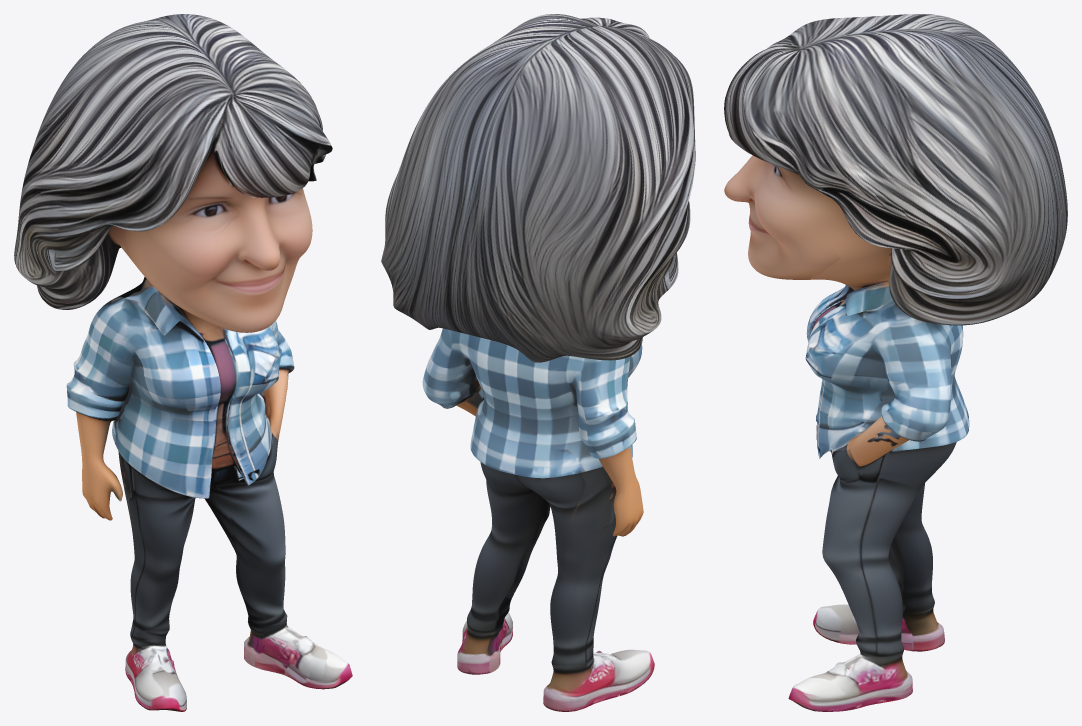
The model's file is vickie.glb.
3 renders of one model, left to right at view 1: azimuth 30°, elevation 25°; view 2: azimuth 150°, elevation 25°; view 3: azimuth 270°, elevation 25°, orthographic. The views are drawn at different scales.
Parts seen in each view (by area): view 1: model.003; view 2: model.003; view 3: model.003.
Boxes of the visible parts, x1,y1,x2,y2 form: model.003: [14, 14, 352, 711]; model.003: [381, 14, 695, 711]; model.003: [724, 14, 1067, 711].
Bounding box in the file's own units: 0.682 × 1.62 × 0.8022.
Materials: 1 (1 with a texture image).
